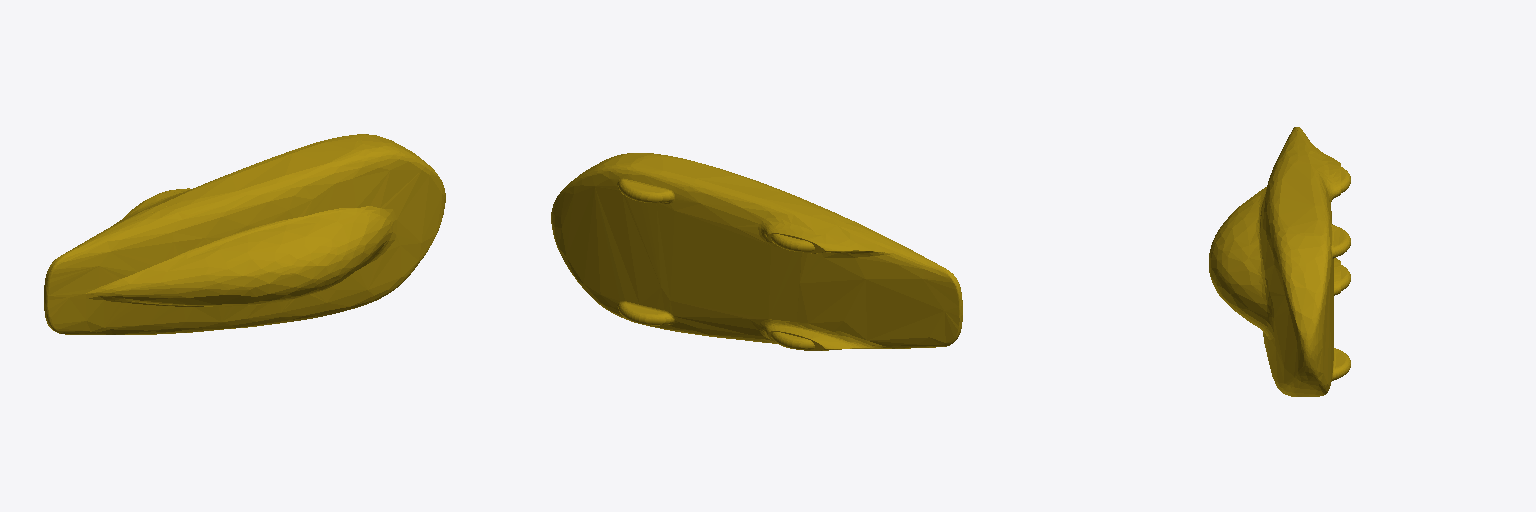
The model's file is SZEmissionRviz5.obj.
3 renders of one model, left to right at view 1: azimuth 30°, elevation 25°; view 2: azimuth 150°, elevation 25°; view 3: azimuth 270°, elevation 25°, orthographic.
Visible parts, largest first — view 1: SZEmissionRviz4; view 2: SZEmissionRviz4; view 3: SZEmissionRviz4.
Part boxes in pixels (bbox=[...]): SZEmissionRviz4: bbox=[44, 134, 445, 334]; SZEmissionRviz4: bbox=[551, 153, 962, 350]; SZEmissionRviz4: bbox=[1209, 127, 1350, 396].
Size of the model in its own units: 3.47 by 1.28 by 1.05.